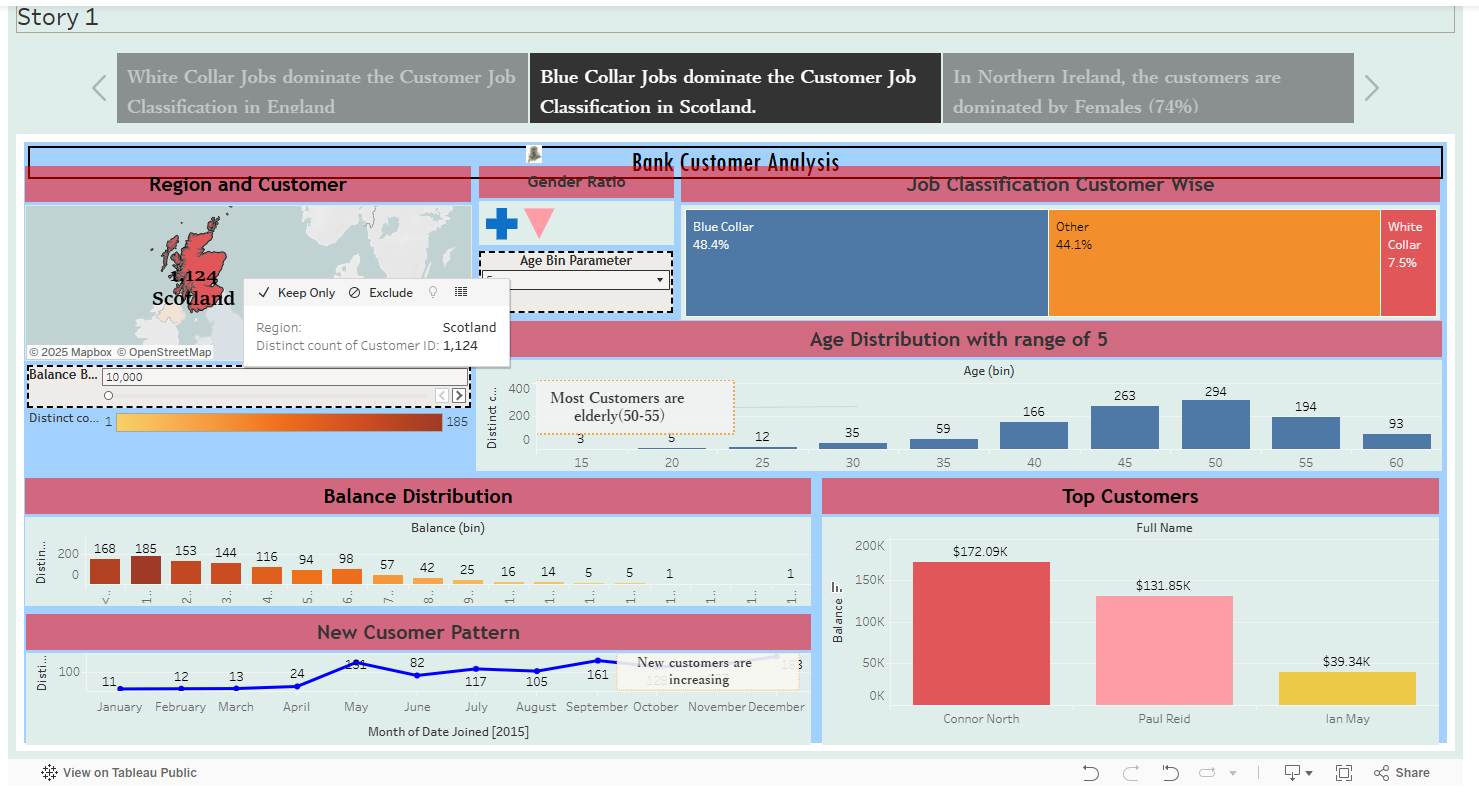

The page's visual inventory and layout, read from the dashboard file:
{"tool":"tableau","page":{"name":"Dashboard 1","canvas":[1000,1000],"units":"permille","ordinal":0},"visuals":[{"type":"text","box":[4.7,8.9,990.6,45.8]},{"type":"image","param":"Image/moneybag.jpg","box":[315.2,18.2,89.2,28.6]},{"type":"worksheet","title":"Region and Customer","mark":"Multipolygon","box":[6.4,52.5,310.7,315.9]},{"type":"worksheet","title":"Gender Distribution","mark":"Shape","box":[321.8,52.5,135.2,128.3]},{"type":"worksheet","title":"Job Classification Customer Wise","mark":"Automatic","box":[462.3,52.5,527.2,251.1]},{"type":"parameter","param":"[Parameters].[Age (bin) Parameter]","box":[321.8,189.7,134.6,100.5]},{"type":"worksheet","title":"Age Distribution","mark":"Automatic","rows":["Customer ID"],"cols":["Age (bin)"],"box":[319.5,303.6,671.1,242.2]},{"type":"parameter","param":"[Parameters].[Balance (bin) Parameter]","box":[8,374,308.4,70.1]},{"type":"legend","title":"Balance Distribution","param":"[federated.0nr486x0nt0enj11dynmx0gq46b9].[ctd:Customer ID:qk]","box":[8.8,445,309.2,53.7]},{"type":"worksheet","title":"Balance Distribution","mark":"Automatic","rows":["Customer ID"],"cols":["Balance (bin)"],"box":[6.4,556.9,545.9,209.8]},{"type":"worksheet","title":"Top Customers","mark":"Automatic","rows":["Balance"],"cols":["Calculation_1134062730736029696"],"box":[560,556.9,428.9,433]},{"type":"worksheet","title":"New Cusomer Pattern","mark":"Automatic","rows":["Customer ID"],"cols":["Date Joined"],"box":[7,777.9,545.4,213.2]}]}

Visuals, with their boxes on the dashboard's canvas, which has no fixed pixel size, in thousandths of its width and height (x1, y1, x2, y2). These are canvas units, not pixel positions in the 1479x807 screenshot, which may show the page scaled, cropped or inside an application window:
text: <box>5,9,995,55</box>
image: <box>315,18,404,47</box>
"Region and Customer" worksheet (Multipolygon marks): <box>6,52,317,368</box>
"Gender Distribution" worksheet (Shape marks): <box>322,52,457,181</box>
"Job Classification Customer Wise" worksheet: <box>462,52,990,304</box>
parameter: <box>322,190,456,290</box>
"Age Distribution" worksheet: <box>320,304,991,546</box>
parameter: <box>8,374,316,444</box>
"Balance Distribution" legend: <box>9,445,318,499</box>
"Balance Distribution" worksheet: <box>6,557,552,767</box>
"Top Customers" worksheet: <box>560,557,989,990</box>
"New Cusomer Pattern" worksheet: <box>7,778,552,991</box>
